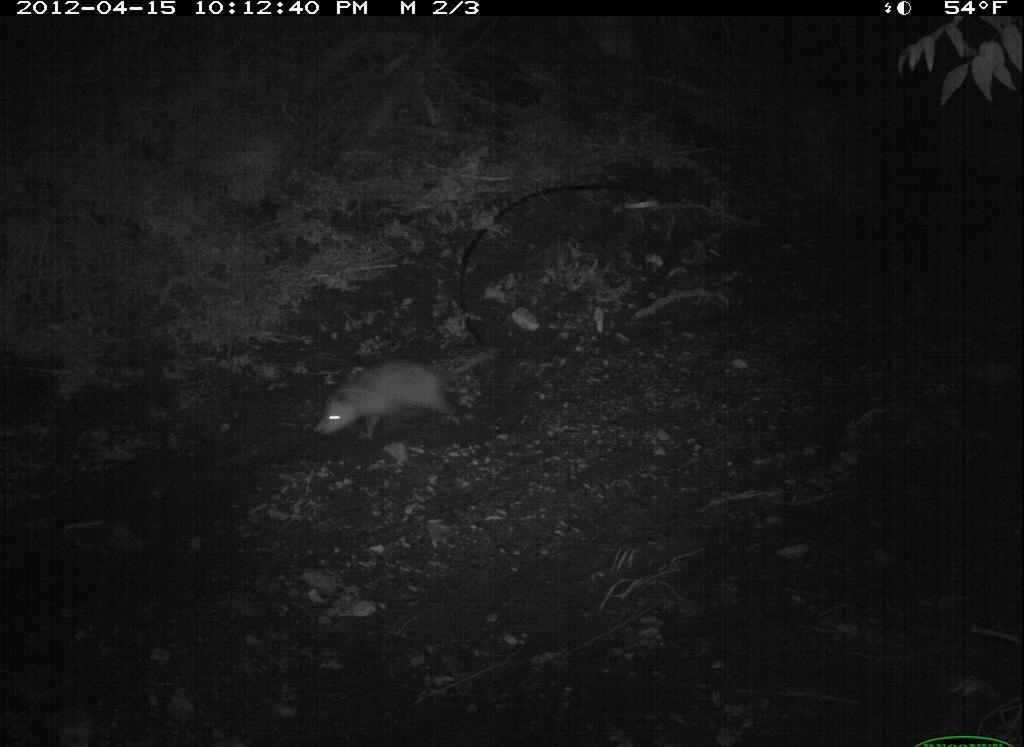opossum: (315, 342, 489, 452)
